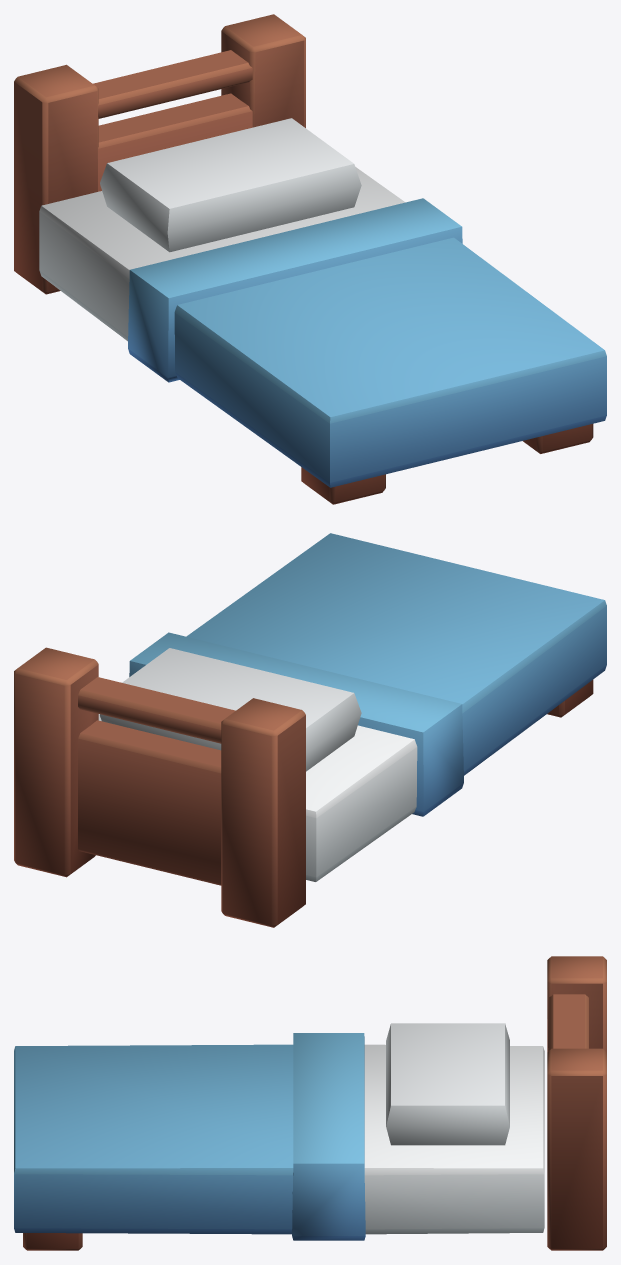
File: bed_single_A_Mid.glb
3 views of the same model, one above another, from view 1: azimuth 30°, elevation 25°; view 2: azimuth 150°, elevation 25°; view 3: azimuth 270°, elevation 25° (orthographic). The views are drawn at different scales.
Parts seen in each view (by area): view 1: bed_single_A; view 2: bed_single_A; view 3: bed_single_A.
Part boxes in pixels (<box>): bed_single_A: <box>14,14,606,504</box>; bed_single_A: <box>14,533,606,927</box>; bed_single_A: <box>14,956,606,1250</box>.
Size of the model in its own units: 1.57 by 1 by 2.99.
1 material, 1 textured.
